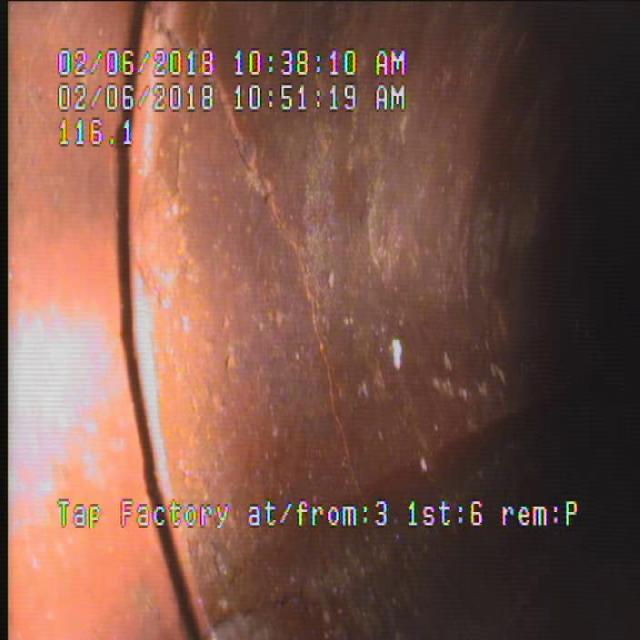Crack: (216, 125, 380, 467)
